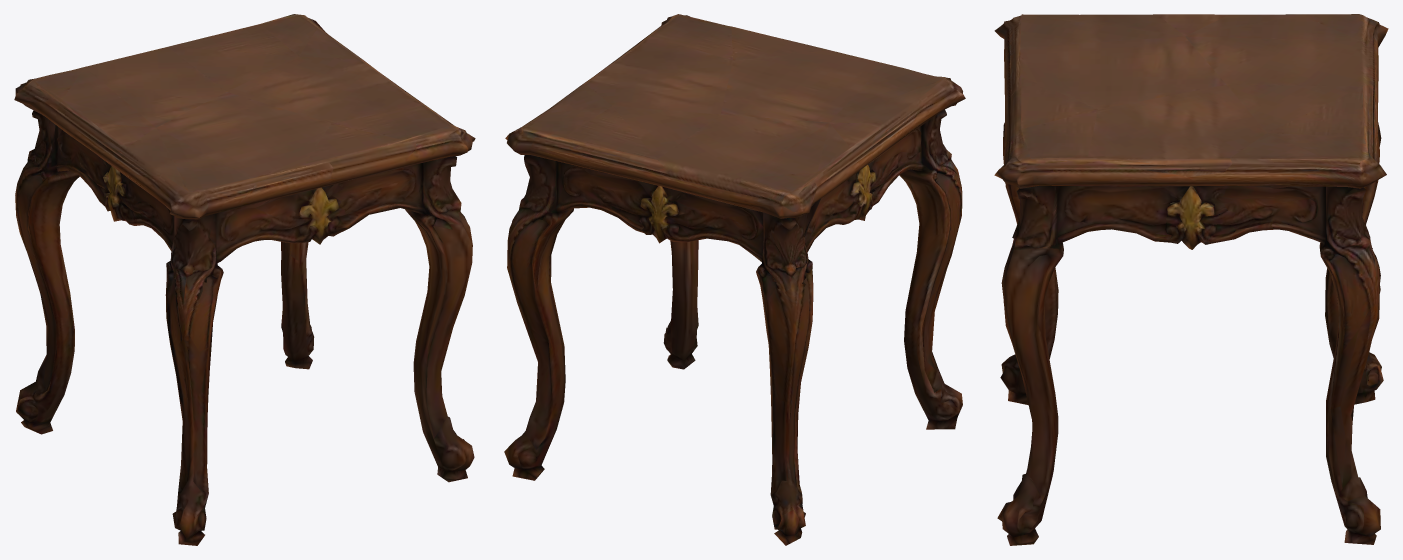
File: side.glb
3 views of the same model, side by side, from view 1: azimuth 30°, elevation 25°; view 2: azimuth 150°, elevation 25°; view 3: azimuth 270°, elevation 25° (orthographic). The views are drawn at different scales.
Visible parts, largest first — view 1: tripo_node_3cd3c0f2-4816-43da-891a-63ebc2a8260c; view 2: tripo_node_3cd3c0f2-4816-43da-891a-63ebc2a8260c; view 3: tripo_node_3cd3c0f2-4816-43da-891a-63ebc2a8260c.
Part boxes in pixels (bbox=[...]): tripo_node_3cd3c0f2-4816-43da-891a-63ebc2a8260c: bbox=[14, 14, 475, 545]; tripo_node_3cd3c0f2-4816-43da-891a-63ebc2a8260c: bbox=[504, 14, 965, 545]; tripo_node_3cd3c0f2-4816-43da-891a-63ebc2a8260c: bbox=[994, 14, 1388, 545].
Bounding box in the file's own units: 0.8938 × 0.9809 × 0.907.
Materials: 1 (1 with a texture image).
